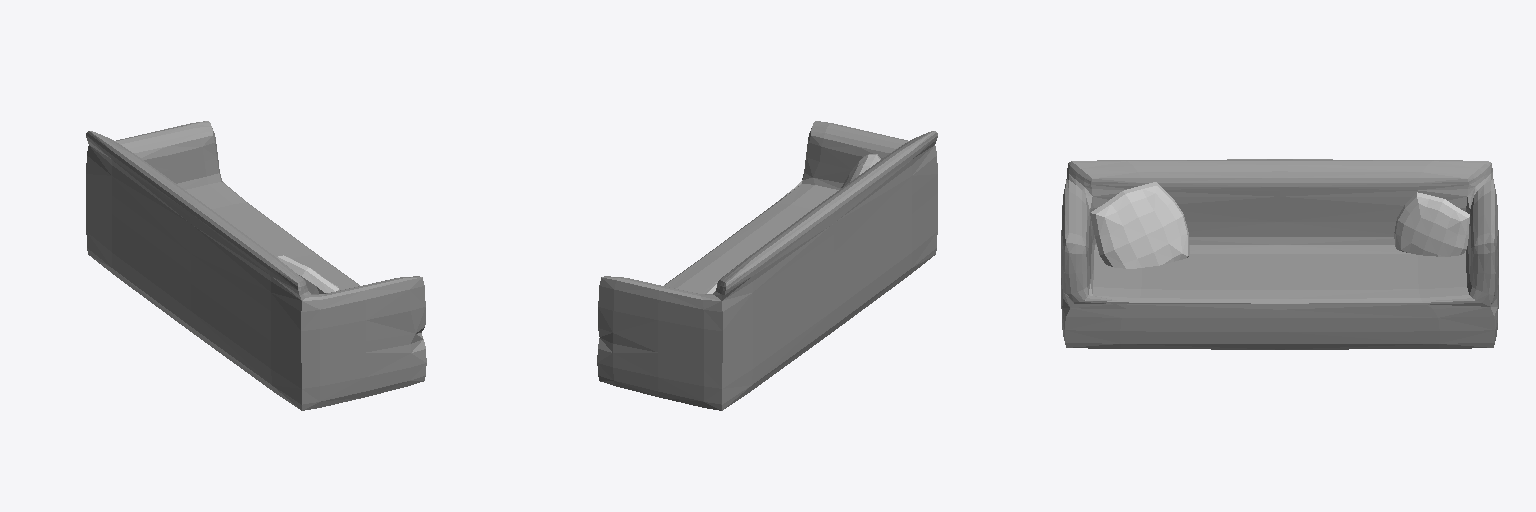
File: Sofa.obj
3 views of the same model, side by side, from view 1: azimuth 30°, elevation 25°; view 2: azimuth 150°, elevation 25°; view 3: azimuth 270°, elevation 25° (orthographic).
Parts seen in each view (by area): view 1: Sofa_Cube, Cushion_Left_Cube.001; view 2: Sofa_Cube; view 3: Sofa_Cube, Cushion_Left_Cube.001, Cushion_Right_Cube.002.
Boxes of the visible parts, x1=… form: Sofa_Cube: x1=86, y1=121, x2=426, y2=410; Cushion_Left_Cube.001: x1=277, y1=255, x2=339, y2=293; Sofa_Cube: x1=597, y1=121, x2=937, y2=410; Sofa_Cube: x1=1061, y1=159, x2=1498, y2=349; Cushion_Left_Cube.001: x1=1090, y1=182, x2=1189, y2=268; Cushion_Right_Cube.002: x1=1394, y1=192, x2=1469, y2=256.
Size of the model in its own units: 2.01 by 1.94 by 5.77.